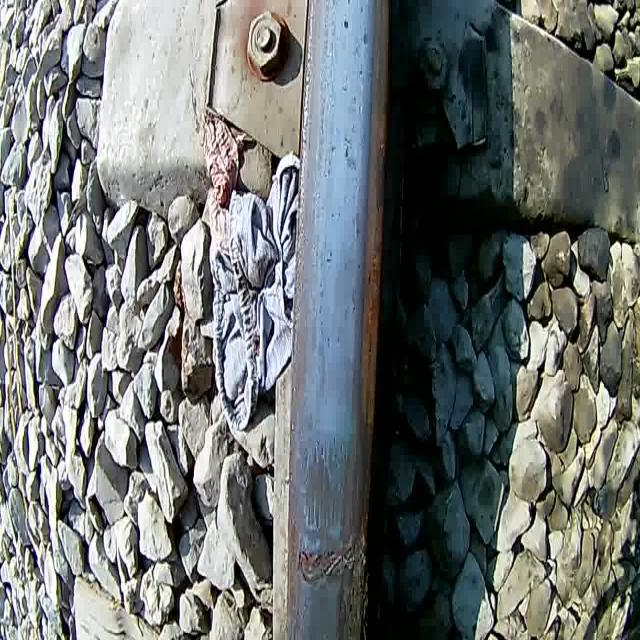Squats: (292, 420, 360, 546)
